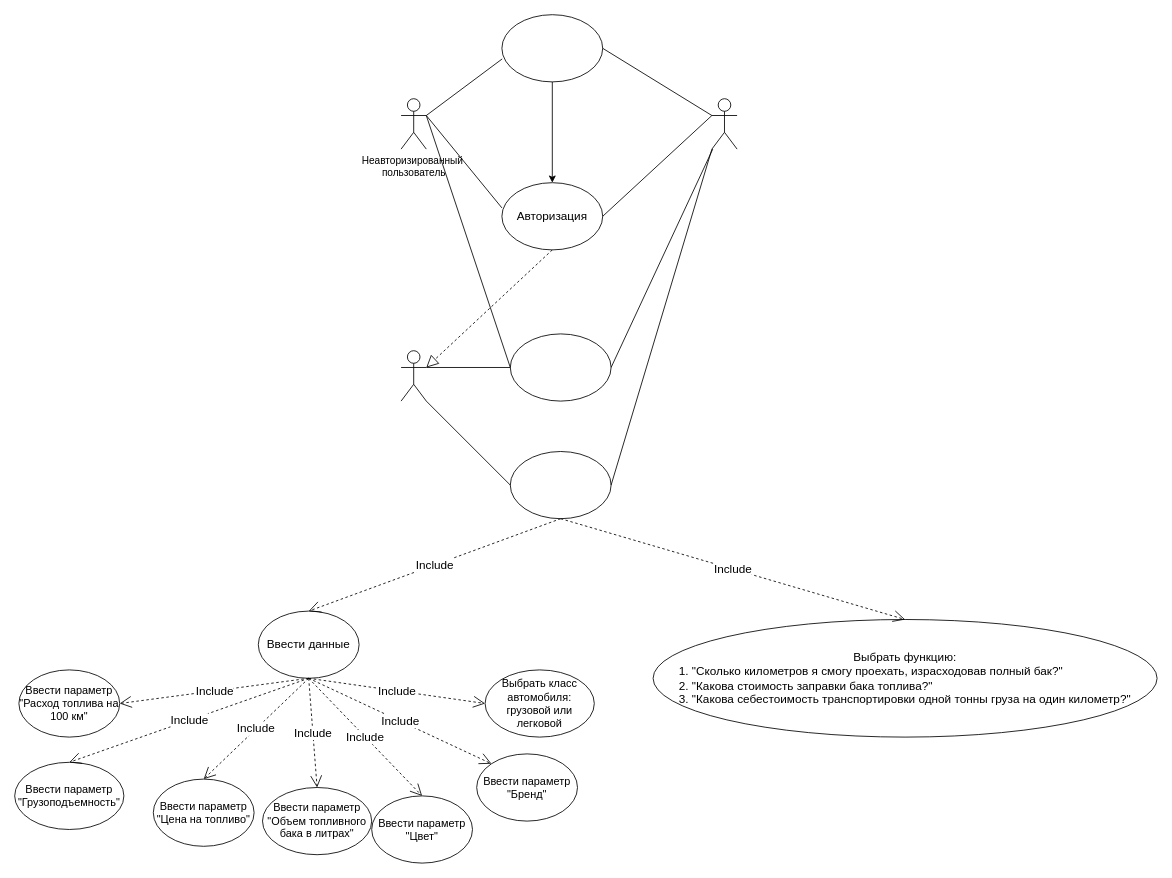
This 1172x878 diagram has some shape labels left out. Each missing label, with the box of its shape:
Авторизированный пользователь: (400, 350, 426, 401)
Произвести расчет: (509, 451, 611, 519)
Регистрация: (501, 14, 603, 82)
Сбросить пароль: (509, 333, 611, 401)
Сервер: (711, 98, 737, 149)
